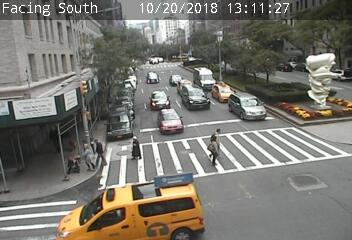car: (231, 91, 265, 121), (159, 109, 181, 132), (195, 67, 214, 87), (184, 87, 202, 108), (150, 91, 169, 108), (215, 84, 229, 101), (147, 71, 160, 82), (181, 80, 189, 85), (173, 76, 178, 83)
